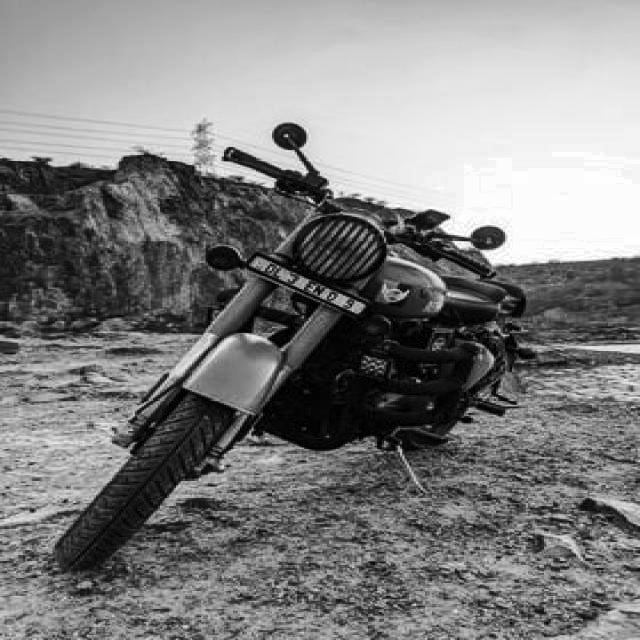Bike: (59, 123, 520, 573)
